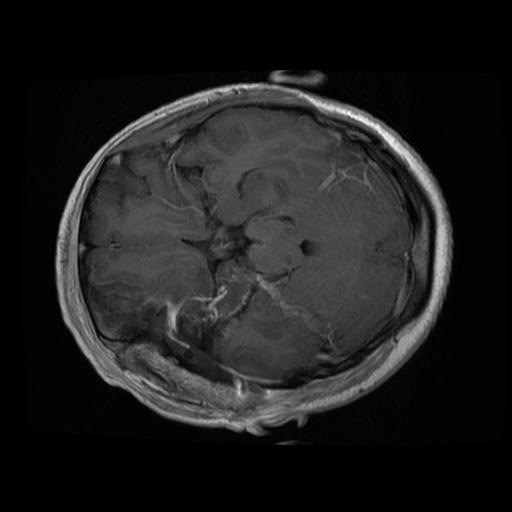glioma: (168, 267, 321, 384)
